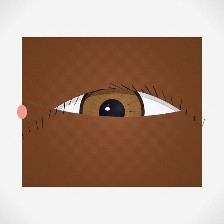hemorrhage_spot: (45, 90, 139, 165)
